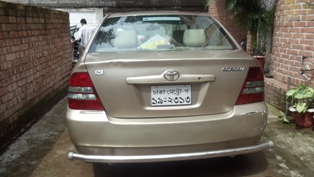registration_plate: (150, 85, 192, 105)
